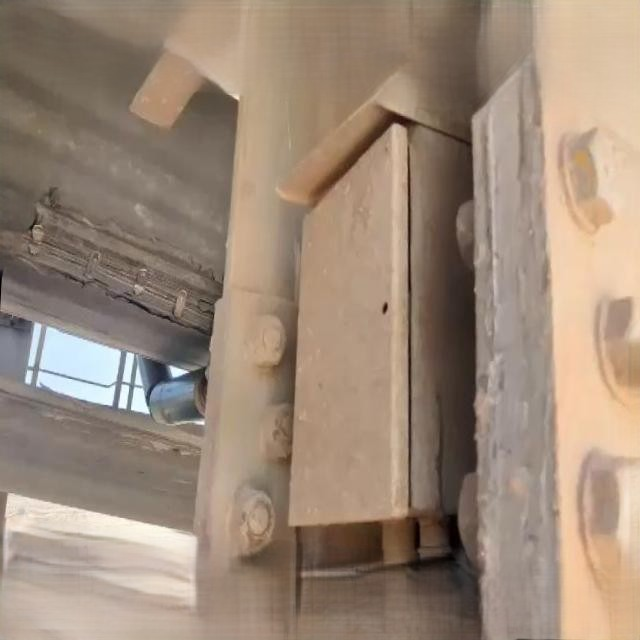Tear: (2, 181, 226, 340)
